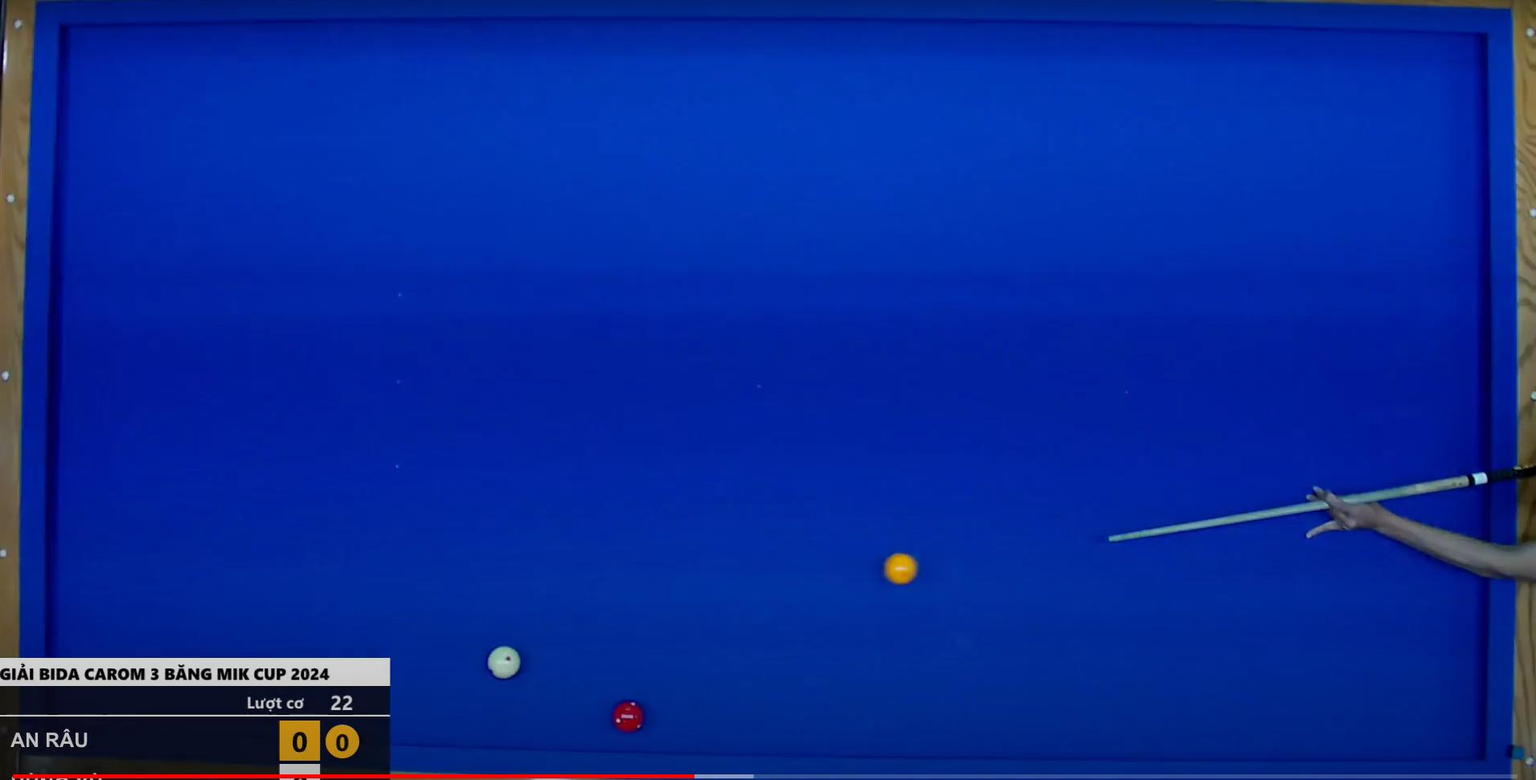red ball: (605, 693, 650, 744)
white ball: (480, 638, 526, 685)
yellow ball: (874, 546, 926, 593)
